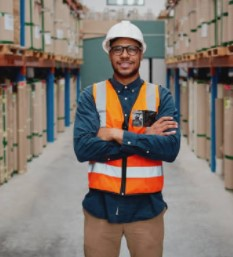worker: (88, 20, 166, 192)
